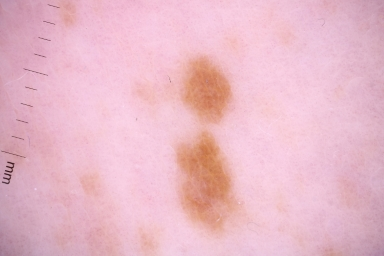nevus: (172, 136, 239, 236), (184, 59, 235, 122)
